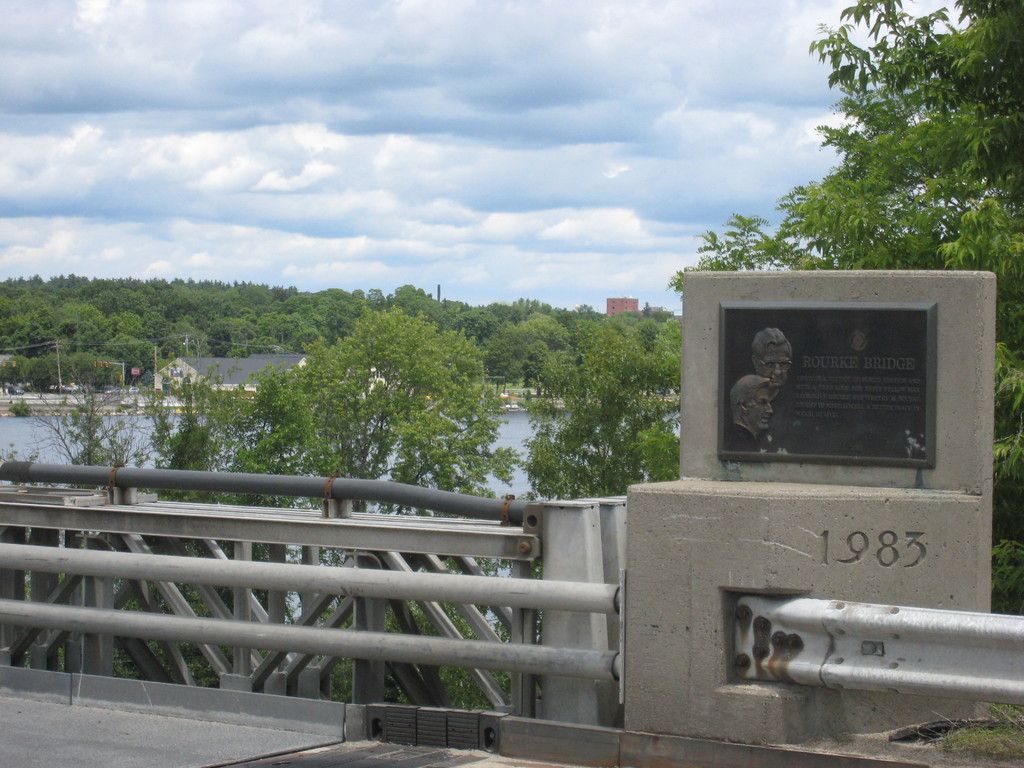Tree: (666, 0, 1023, 619), (267, 303, 515, 520), (517, 326, 684, 499)
